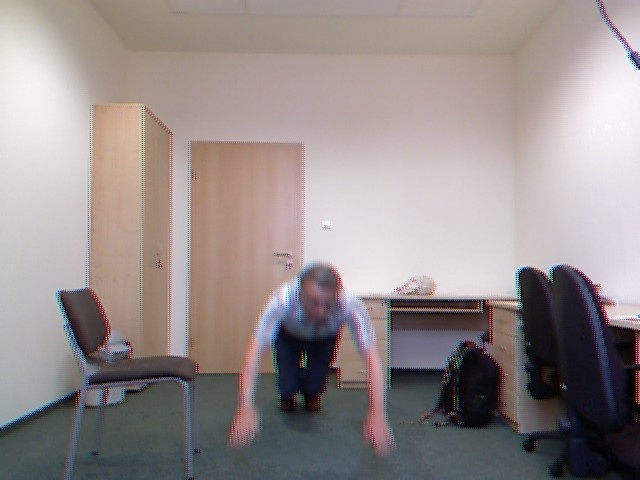fall: (224, 256, 398, 468)
